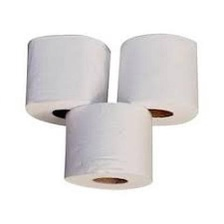tissue: (60, 99, 158, 193), (21, 31, 113, 131), (114, 30, 202, 128)
